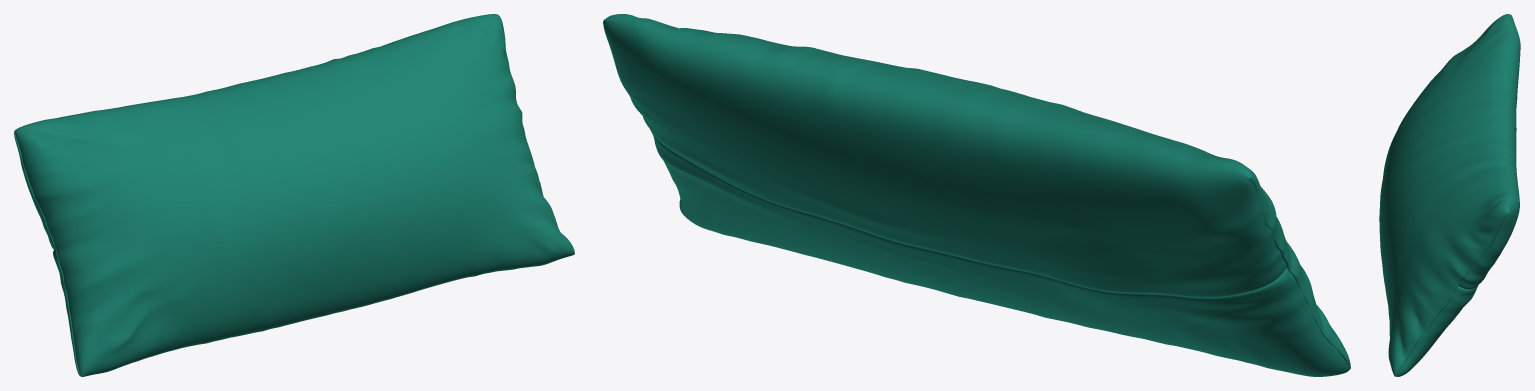
Rendered from SM_Schlafsofa_Kissen_01.fbx.
3 views of the same model, side by side, from view 1: azimuth 30°, elevation 25°; view 2: azimuth 150°, elevation 25°; view 3: azimuth 270°, elevation 25° (orthographic). The views are drawn at different scales.
Parts seen in each view (by area): view 1: SM_Schlafsofa_Kissen_01; view 2: SM_Schlafsofa_Kissen_01; view 3: SM_Schlafsofa_Kissen_01.
Boxes of the visible parts, box(x1,y1,x2,y2) form: SM_Schlafsofa_Kissen_01: box(14, 14, 574, 376); SM_Schlafsofa_Kissen_01: box(603, 14, 1350, 376); SM_Schlafsofa_Kissen_01: box(1379, 14, 1520, 376).
Bounding box in the file's own units: 78.13 × 30.65 × 22.95.
